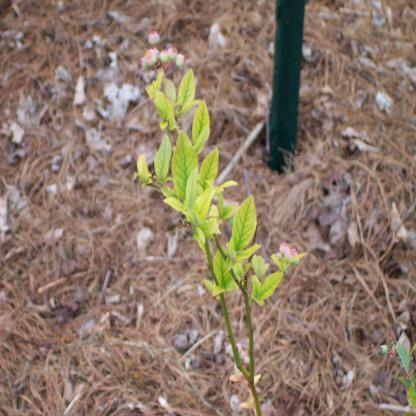Blueberry leaf: (230, 179, 260, 265), (172, 127, 201, 210), (150, 127, 180, 188), (188, 100, 214, 159), (213, 244, 240, 300), (201, 142, 223, 206), (174, 61, 195, 127)
